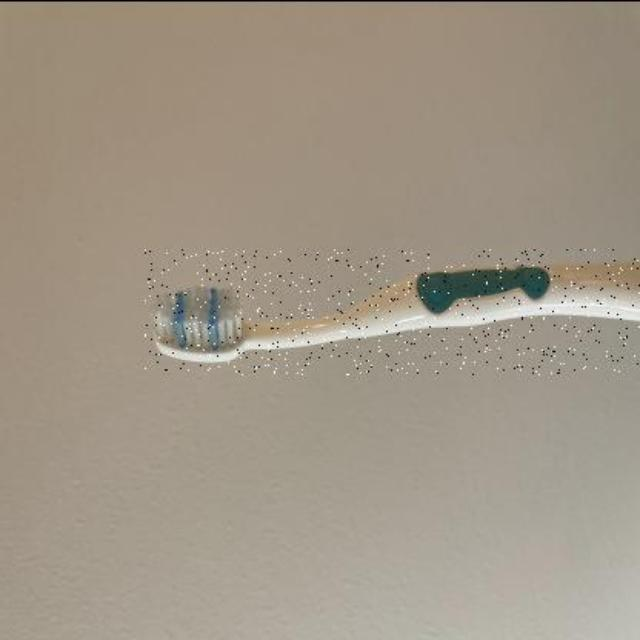toothbrush: (145, 249, 640, 375)
